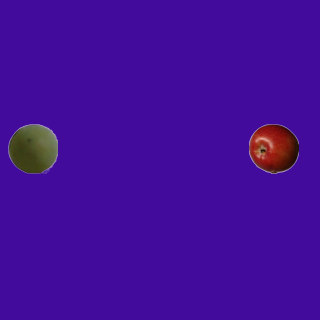Apple Braeburn: (248, 123, 298, 173)
Grape White 4: (7, 123, 57, 173)
